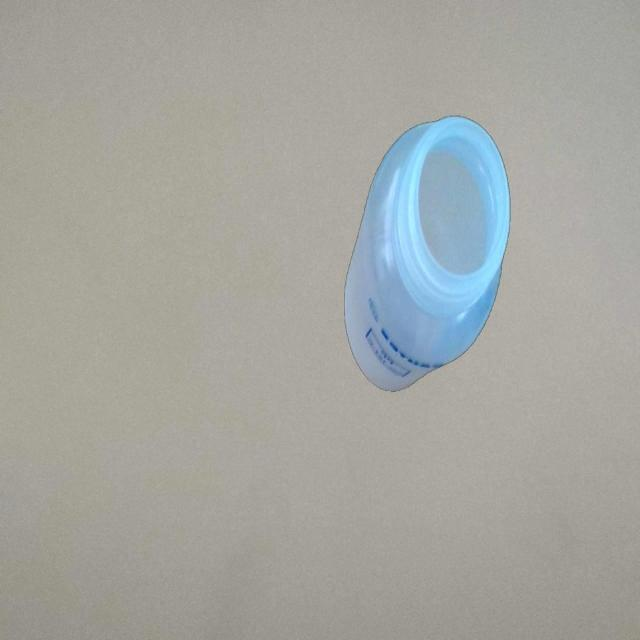bottle: (344, 111, 512, 396)
